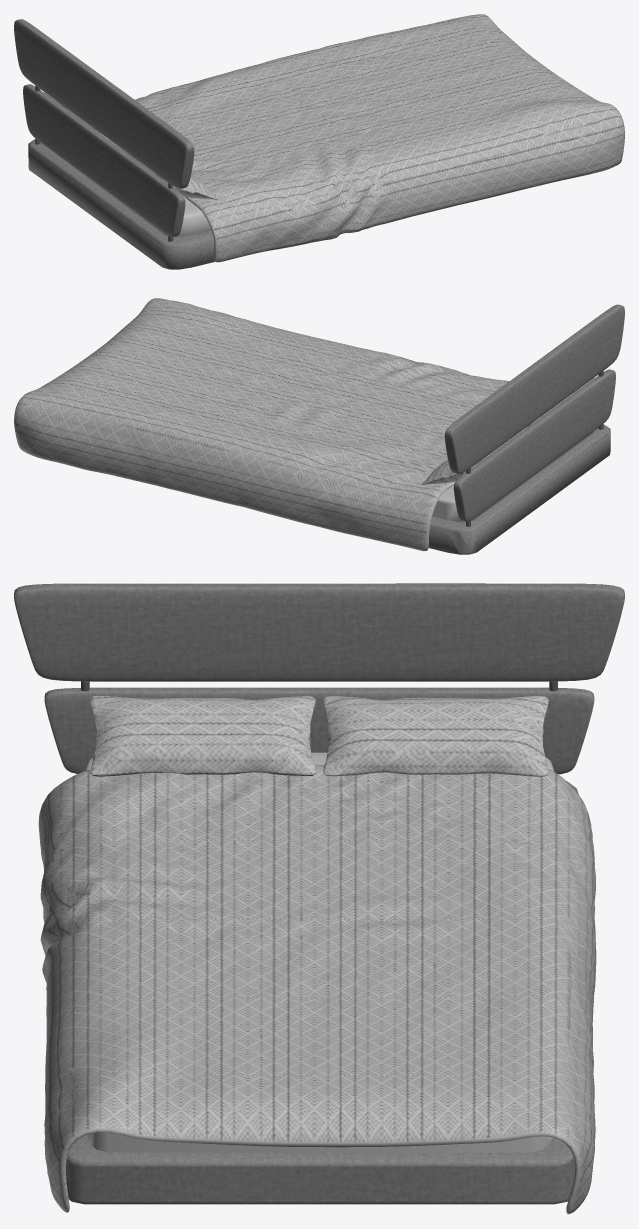
File: modern_bed_opt.glb
The picture shows the model from 3 angles, top to bottom: view 1: azimuth 30°, elevation 25°; view 2: azimuth 150°, elevation 25°; view 3: azimuth 270°, elevation 25°; orthographic projection. The views are drawn at different scales.
Visible parts, largest first — view 1: Modern Bed_Modern Bed_0; view 2: Modern Bed_Modern Bed_0; view 3: Modern Bed_Modern Bed_0.
Boxes of the visible parts, x1,y1,x2,y2 form: Modern Bed_Modern Bed_0: (14,14,624,269); Modern Bed_Modern Bed_0: (14,298,624,554); Modern Bed_Modern Bed_0: (14,583,624,1214).
Size of the model in its own units: 21.42 by 6.64 by 14.07.
1 material, 1 textured.
